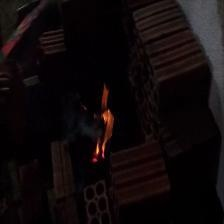fire: (86, 82, 125, 169)
